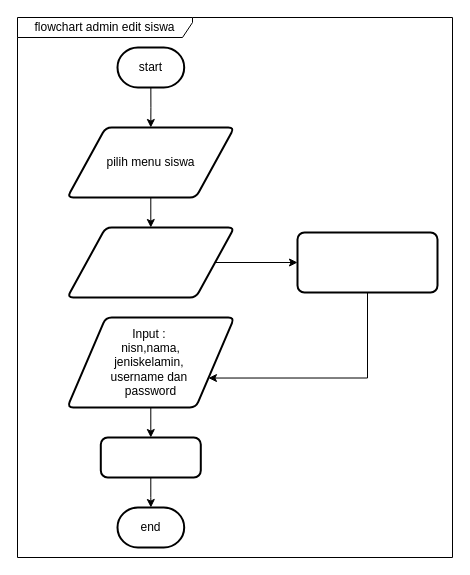
Some shapes in this 470 by 575 pixel diagram are drawn without their labels. The shapes that lost their labels are listed below. From the top down, each one's centre as x and y in pixels, then its label:
At pixel 150 262: "Edit siswa".
At pixel 367 262: "get siswa by id_siswa".
At pixel 150 457: "update data siswa".
